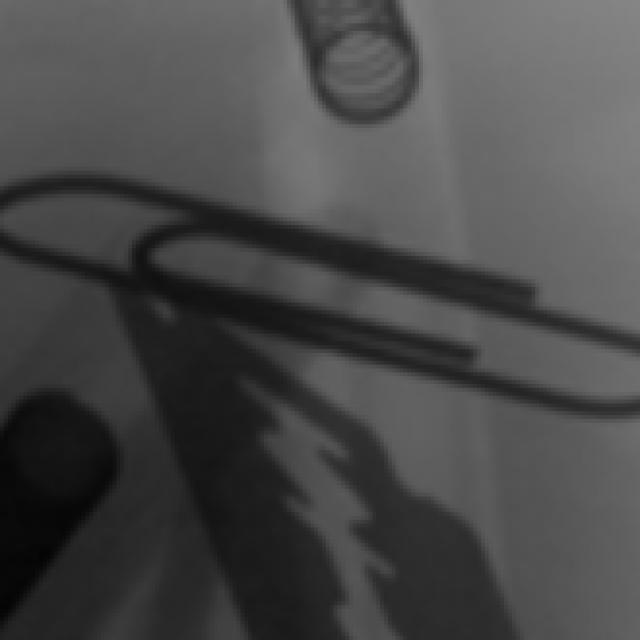GUN: (91, 264, 532, 640)
